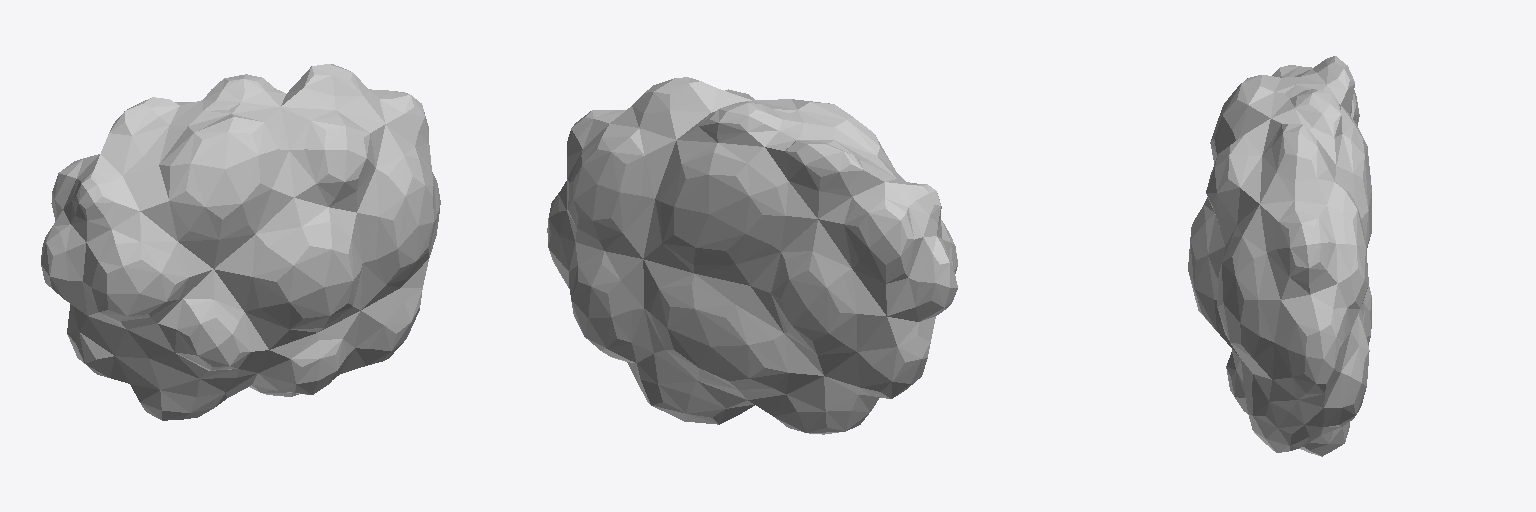
The model's file is cloud.obj.
3 renders of one model, left to right at view 1: azimuth 30°, elevation 25°; view 2: azimuth 150°, elevation 25°; view 3: azimuth 270°, elevation 25°, orthographic.
Parts seen in each view (by area): view 1: n0b0; view 2: n0b0; view 3: n0b0.
Boxes of the visible parts, box(x1,y1,x2,y2) form: n0b0: box(41, 64, 440, 420); n0b0: box(547, 77, 957, 434); n0b0: box(1188, 56, 1371, 456).
Size of the model in its own units: 43.68 by 34.66 by 17.54.